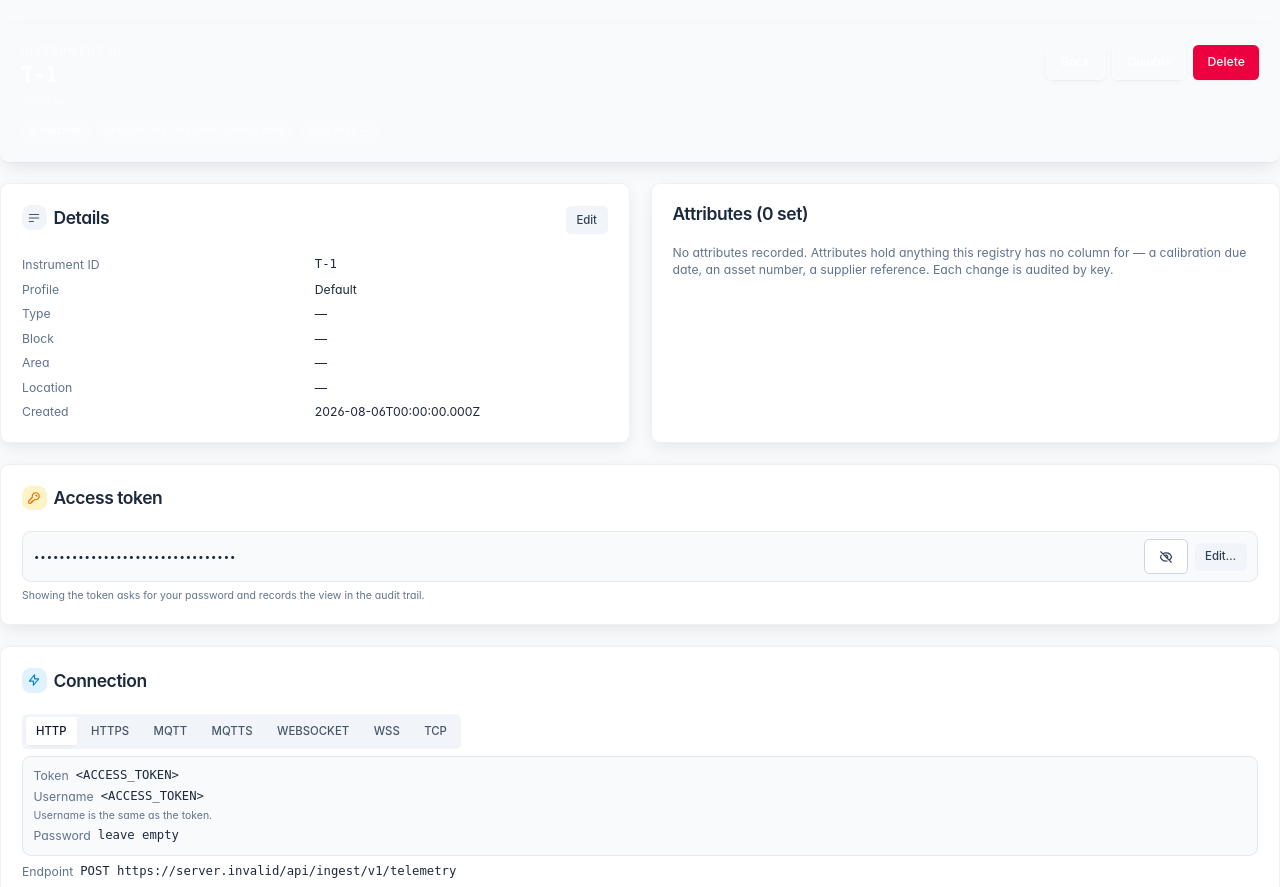
Test: instrument detail — token reveal › flows the revealed token into the connection rows AND the pasteable command
Click the button named "show token": [1166, 557] box [1144,539,1188,574]
(page scrolled)
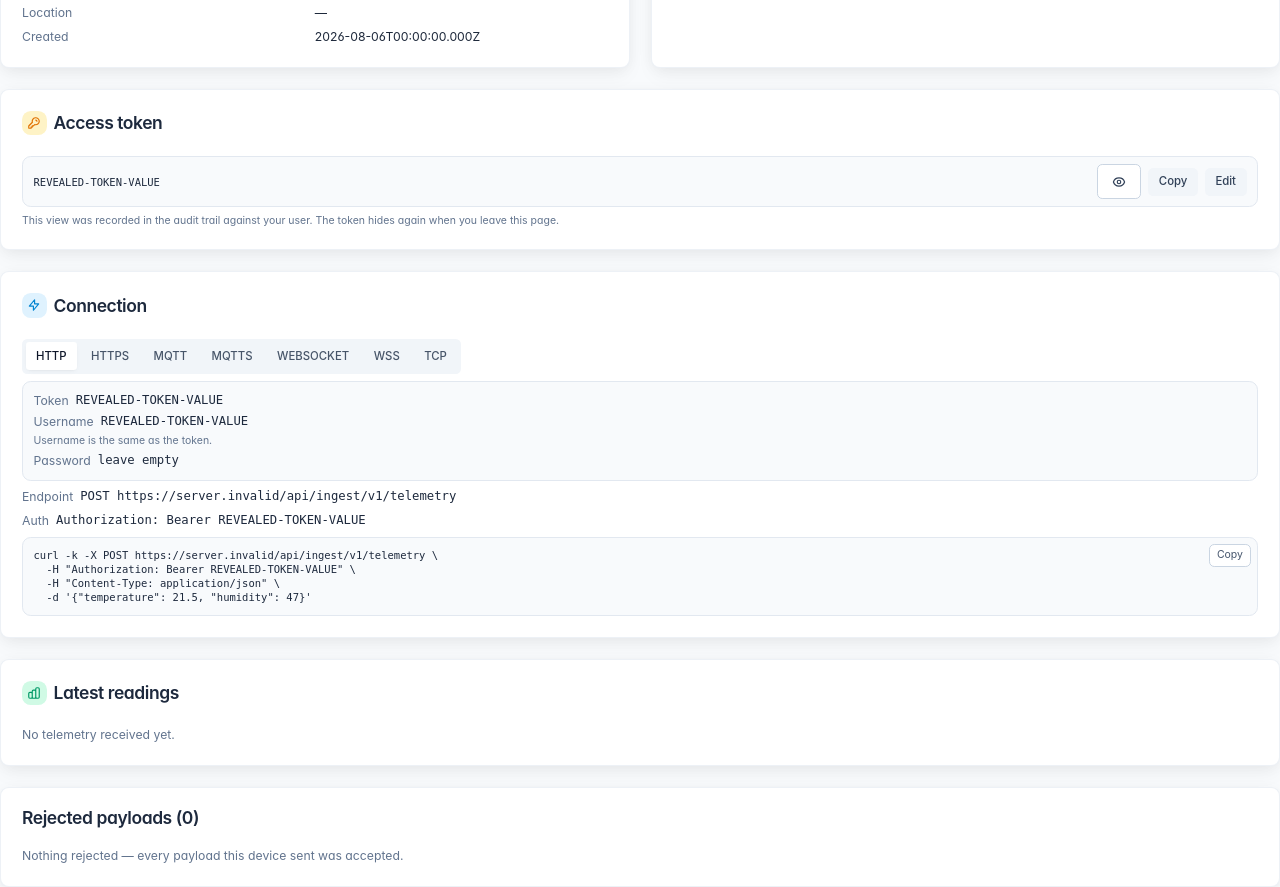
Now the text "REVEALED-TOKEN-VALUE" below "Access token" is shown, box [34,176,160,188]
Now the text "curl -k -X POST" shows "Bearer REVEALED-TOKEN-VALUE", box [34,549,438,603]
Now the text "<ACCESS_TOKEN>" is not shown
